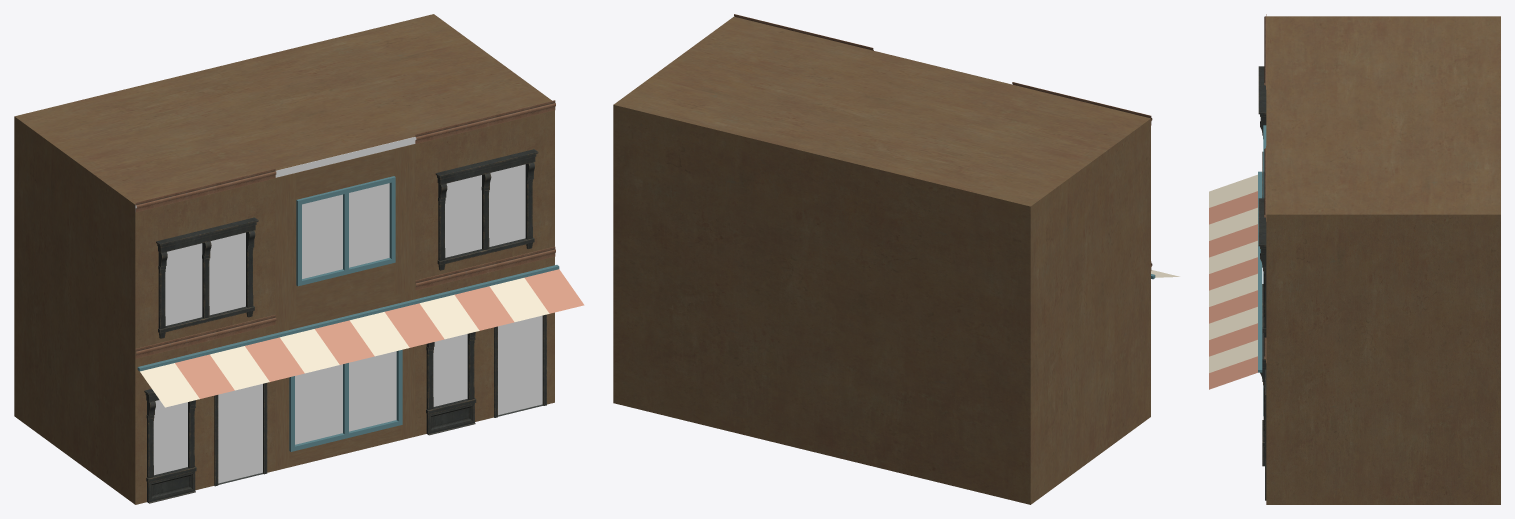
The model's file is sage-shopfront.glb.
The picture shows the model from 3 angles, left to right: view 1: azimuth 30°, elevation 25°; view 2: azimuth 150°, elevation 25°; view 3: azimuth 270°, elevation 25°; orthographic projection. The views are drawn at different scales.
Visible parts, largest first — view 1: rear_sides_roof, COL_building, recessed_central_wall, wall_window_centered_large_02_2, wall_window_centered_large_02_8, ochre_canvas_awning, cream_canvas_awning, wall_door_window_small_01_0, wall_door_window_small_01_6, painted_shop_frames, window_centered_large_02_3, window_centered_large_02_9 (+7 smaller); view 2: rear_sides_roof; view 3: rear_sides_roof, ochre_canvas_awning, cream_canvas_awning, window_centered_large_02_9, awning_frame, door_window_small_01_7, window_centered_large_02_3.
Part boxes in pixels (<box>): rear_sides_roof: <box>14,14,551,504</box>; COL_building: <box>135,137,542,483</box>; recessed_central_wall: <box>275,144,415,470</box>; wall_window_centered_large_02_2: <box>135,178,275,358</box>; wall_window_centered_large_02_8: <box>415,110,554,286</box>; ochre_canvas_awning: <box>175,269,584,398</box>; cream_canvas_awning: <box>140,278,549,407</box>; wall_door_window_small_01_0: <box>135,325,275,504</box>; wall_door_window_small_01_6: <box>415,256,554,436</box>; painted_shop_frames: <box>289,176,402,451</box>; window_centered_large_02_3: <box>156,217,258,338</box>; window_centered_large_02_9: <box>435,149,538,270</box>; rear_sides_roof: <box>613,16,1150,504</box>; rear_sides_roof: <box>1266,16,1500,504</box>; ochre_canvas_awning: <box>1209,191,1257,389</box>; cream_canvas_awning: <box>1209,174,1257,372</box>; window_centered_large_02_9: <box>1258,198,1266,337</box>; awning_frame: <box>1258,171,1262,372</box>; door_window_small_01_7: <box>1260,334,1266,500</box>; window_centered_large_02_3: <box>1258,66,1266,198</box>.
Bounding box in the file's own units: 9 × 6.2 × 5.6.
Materials: 7 (3 with a texture image).
